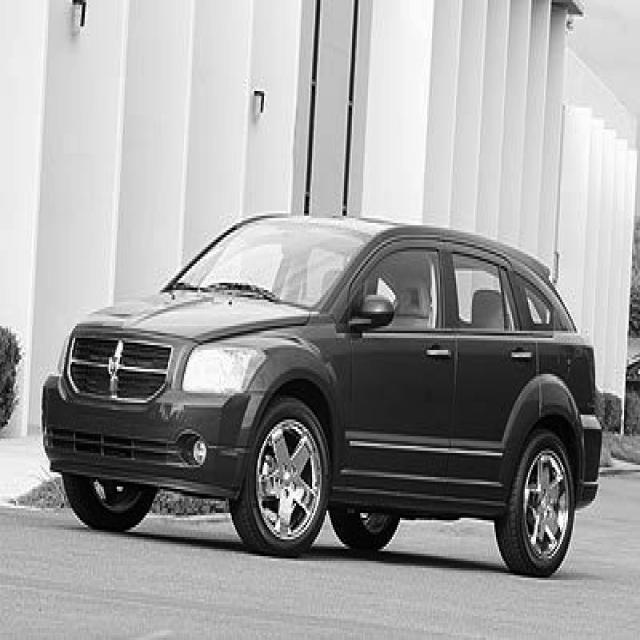car: (40, 209, 602, 575)
